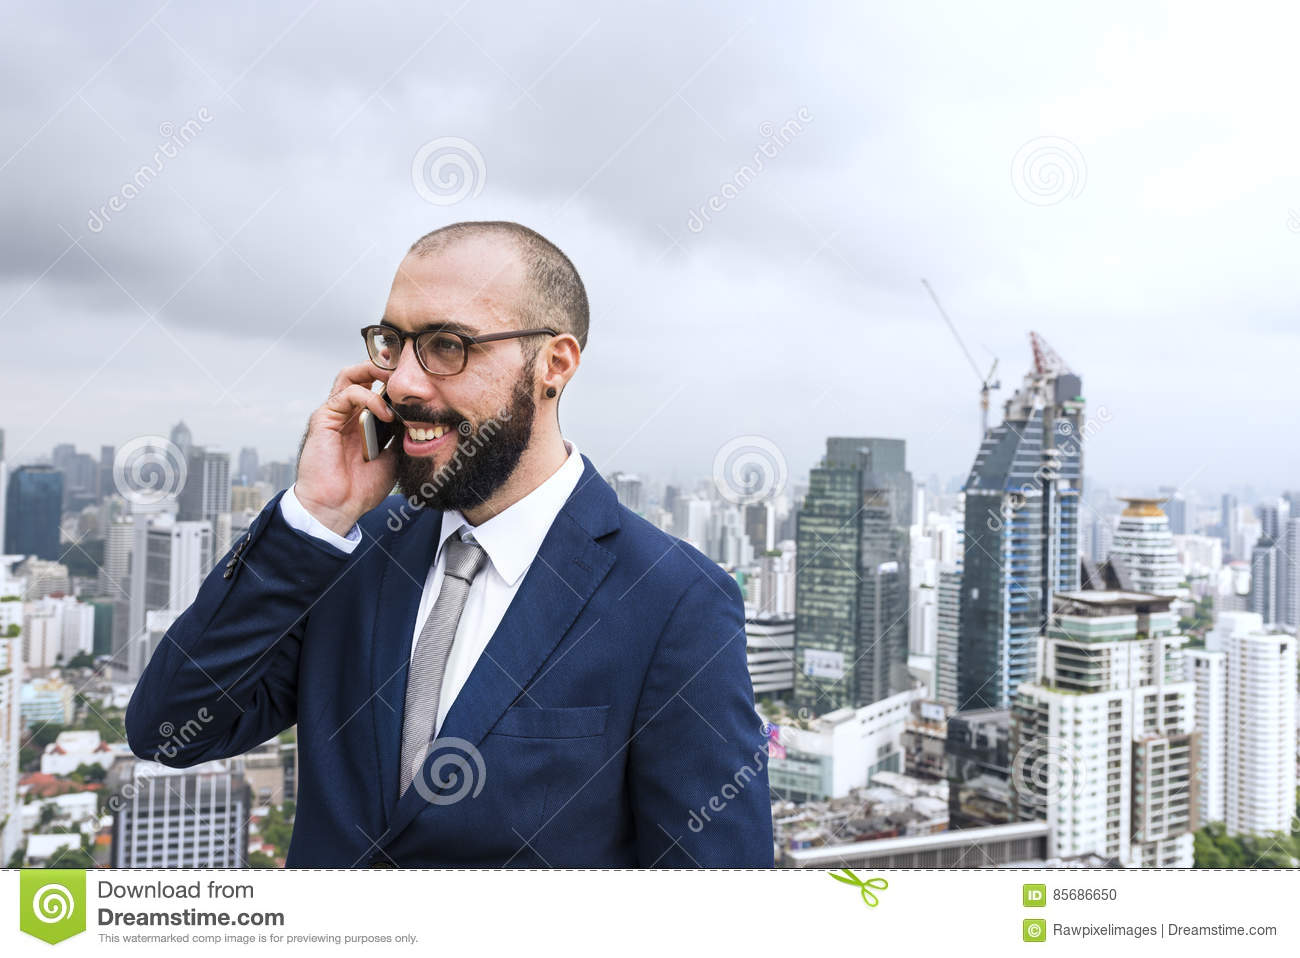phone: (361, 387, 394, 458)
talk: (297, 299, 517, 520)
